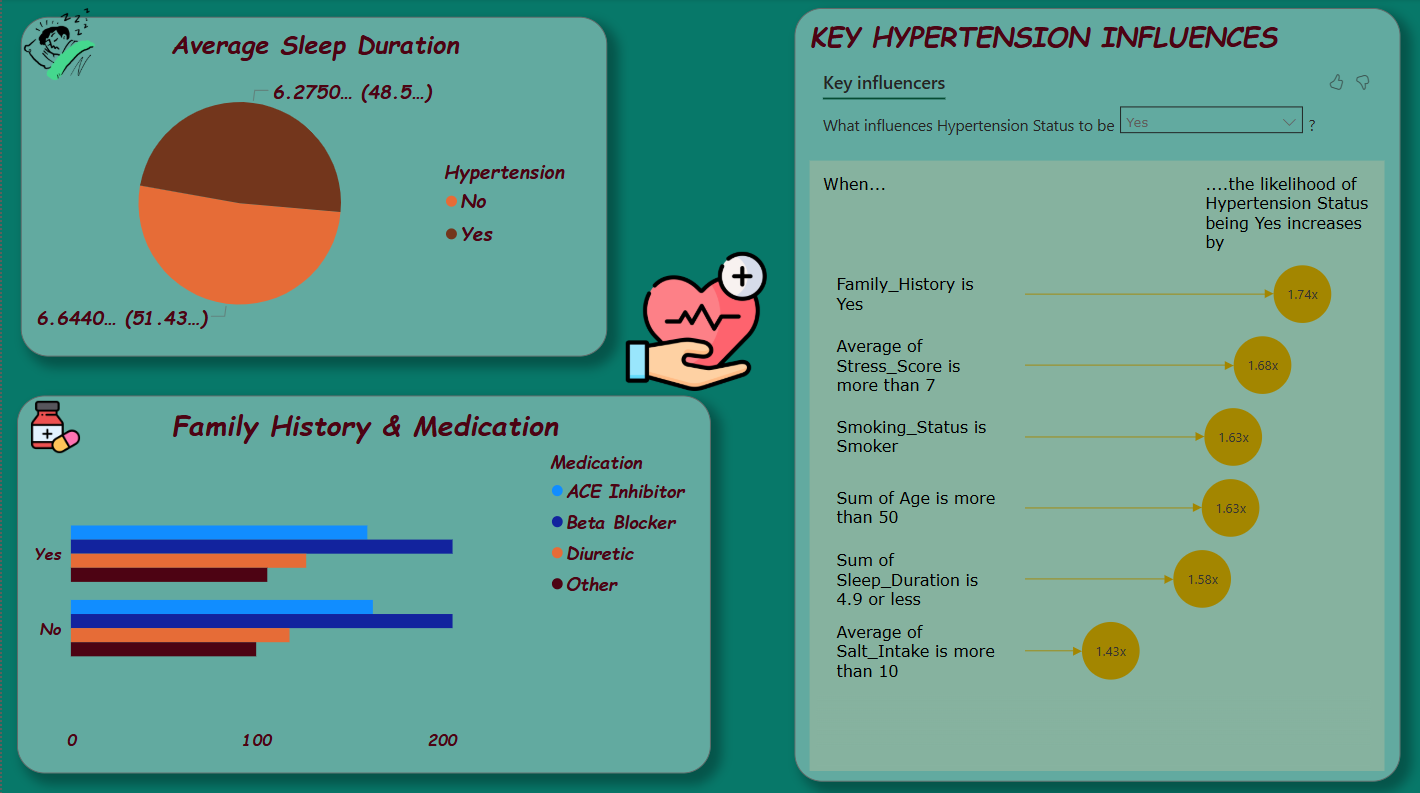

What the dashboard file says about the page in this screenshot:
{"tool":"powerbi","page":{"name":"Page 2","canvas":[1280,720],"ordinal":1},"visuals":[{"type":"keyDriversVisual","title":"KEY HYPERTENSION INFLUENCES","fields":{"Target":["hypertension_dataset.Has_Hypertension"],"ExplainBy":["Sum(hypertension_dataset.Age)","hypertension_dataset.Smoking_Status","hypertension_dataset.Family_History","Avg(hypertension_dataset.Stress_Score)","Sum(hypertension_dataset.Sleep_Duration)","Avg(hypertension_dataset.Salt_Intake)"]},"box":[714,8.7,546.1,697.9],"z":0},{"type":"clusteredBarChart","title":"Family History & Medication","fields":{"Series":["hypertension_dataset.Medication"],"Y":["CountNonNull(hypertension_dataset.Hypertension Status)"],"Category":["hypertension_dataset.Family_History"]},"box":[13.7,358.3,625.7,340.8],"z":1000},{"type":"pieChart","title":"Average Sleep Duration","fields":{"Category":["hypertension_dataset.Has_Hypertension"],"Y":["Avg(hypertension_dataset.Sleep_Duration)"]},"box":[17.4,17.4,528.7,306],"z":2000},{"type":"image","box":[537.4,222.7,176.6,136.8],"z":3000},{"type":"image","box":[13.7,358.3,69.7,57.2],"z":4000},{"type":"image","box":[13.7,0,77.1,83.3],"z":5000}]}

Visuals, with their boxes in screenshot pixels (x1, y1, x2, y2), scaled from the page's 1280x720 canvas onto the 1420x793 screenshot:
"KEY HYPERTENSION INFLUENCES" keyDriversVisual: box(792, 10, 1398, 778)
"Family History & Medication" clusteredBarChart: box(15, 395, 709, 770)
"Average Sleep Duration" pieChart: box(19, 19, 606, 356)
image: box(596, 245, 792, 396)
image: box(15, 395, 93, 458)
image: box(15, 0, 101, 92)
